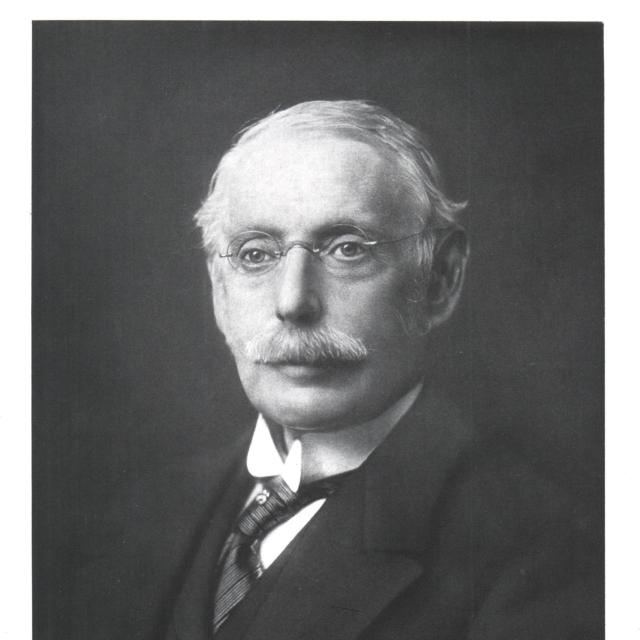no-glass: (244, 231, 374, 265)
